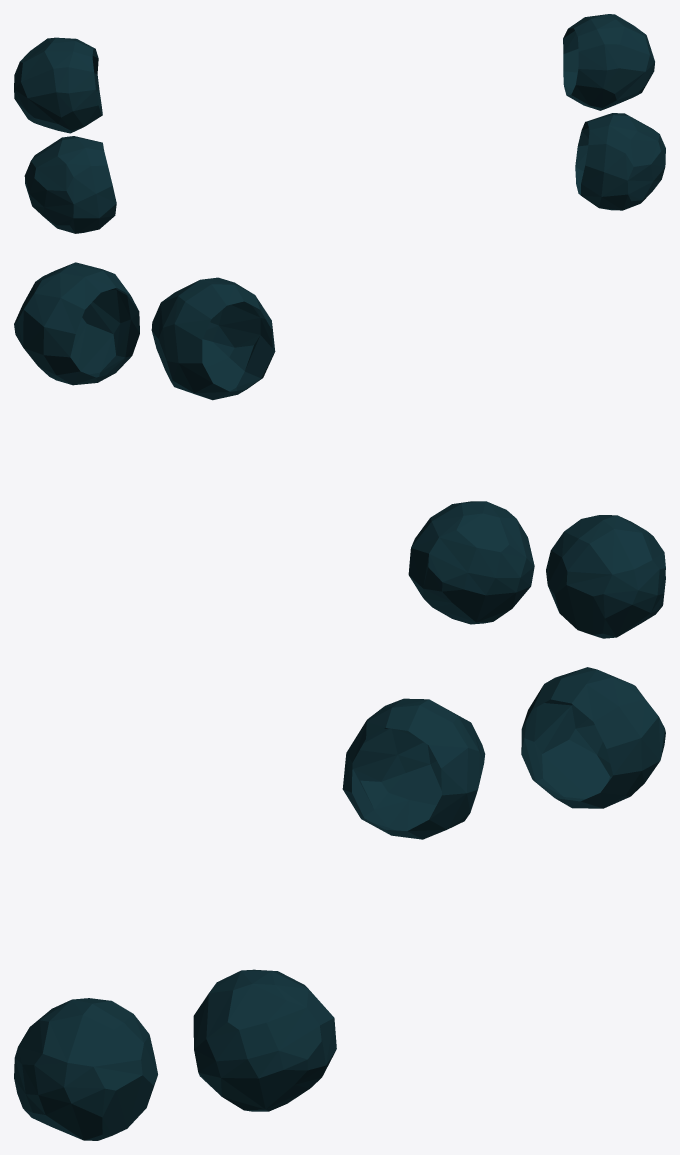
File: mesh11.dat.obj
The picture shows the model from 3 angles, top to bottom: view 1: azimuth 30°, elevation 25°; view 2: azimuth 150°, elevation 25°; view 3: azimuth 270°, elevation 25°; orthographic projection. The views are drawn at different scales.
Parts seen in each view (by area): view 1: Anchor_Eyes; view 2: Anchor_Eyes; view 3: Anchor_Eyes.
Boxes of the visible parts, box(x1,y1,x2,y2) form: Anchor_Eyes: box(14, 14, 665, 233); Anchor_Eyes: box(14, 262, 665, 638); Anchor_Eyes: box(14, 667, 665, 1140).
Bounding box in the file's own units: 1.2 × 0.2698 × 0.8329.
Materials: 1 (1 with a texture image).
